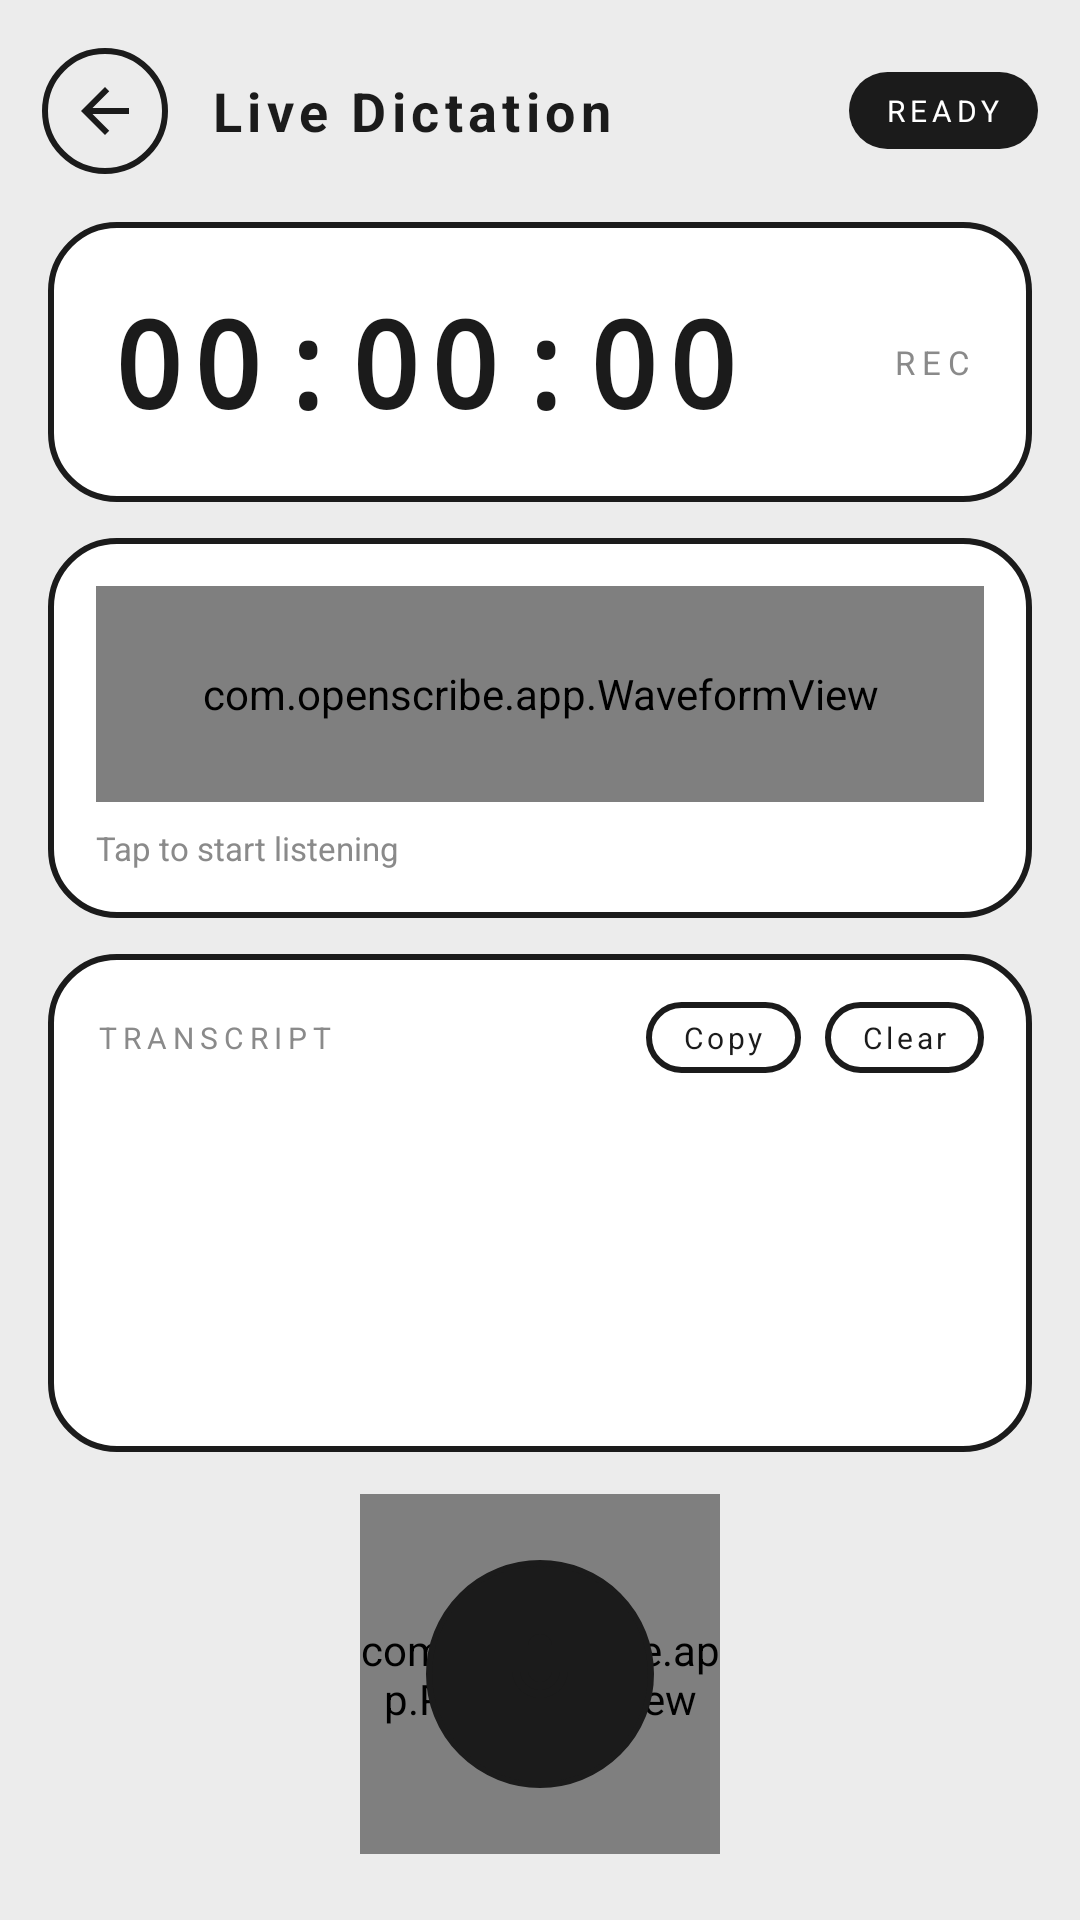

Where icons sit on this 1080 x 1920 app screen, as box=[x1, y1, x2, y2]:
Back: box=[42, 48, 168, 174]
